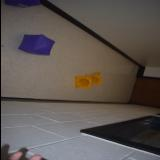cone: (74, 76, 94, 88), (84, 72, 100, 85)
cube: (17, 34, 55, 56), (4, 0, 41, 9)
